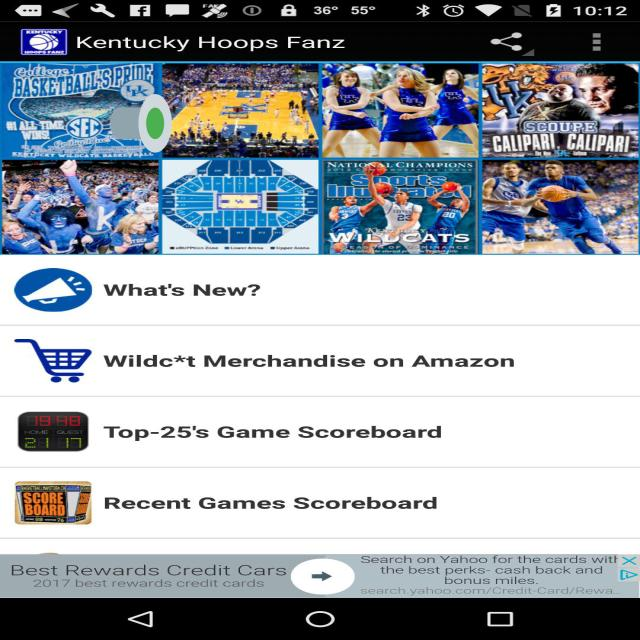social proof: (110, 70, 172, 178)
